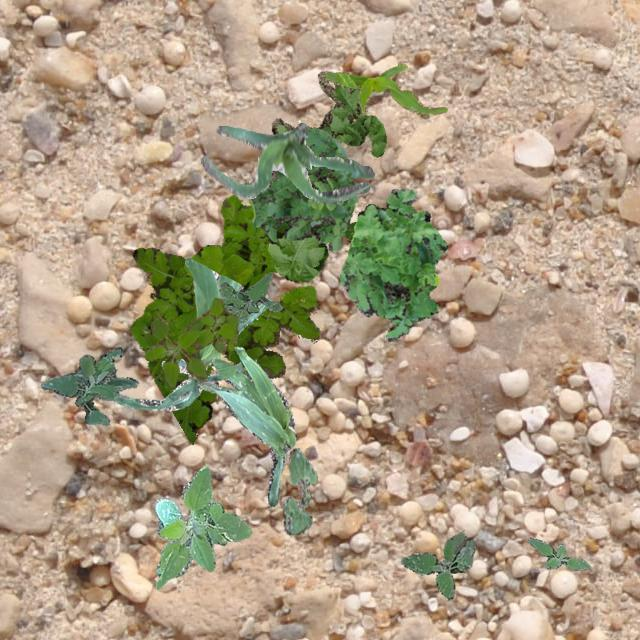crop: (112, 256, 266, 409), (200, 346, 296, 506), (200, 121, 373, 202), (154, 466, 250, 588), (324, 62, 446, 118), (282, 446, 316, 534)
weed: (128, 194, 318, 442), (266, 70, 386, 280), (338, 188, 446, 340), (248, 126, 356, 250), (144, 296, 238, 386), (39, 346, 138, 424), (400, 530, 476, 600), (218, 272, 280, 322), (528, 536, 590, 570)
